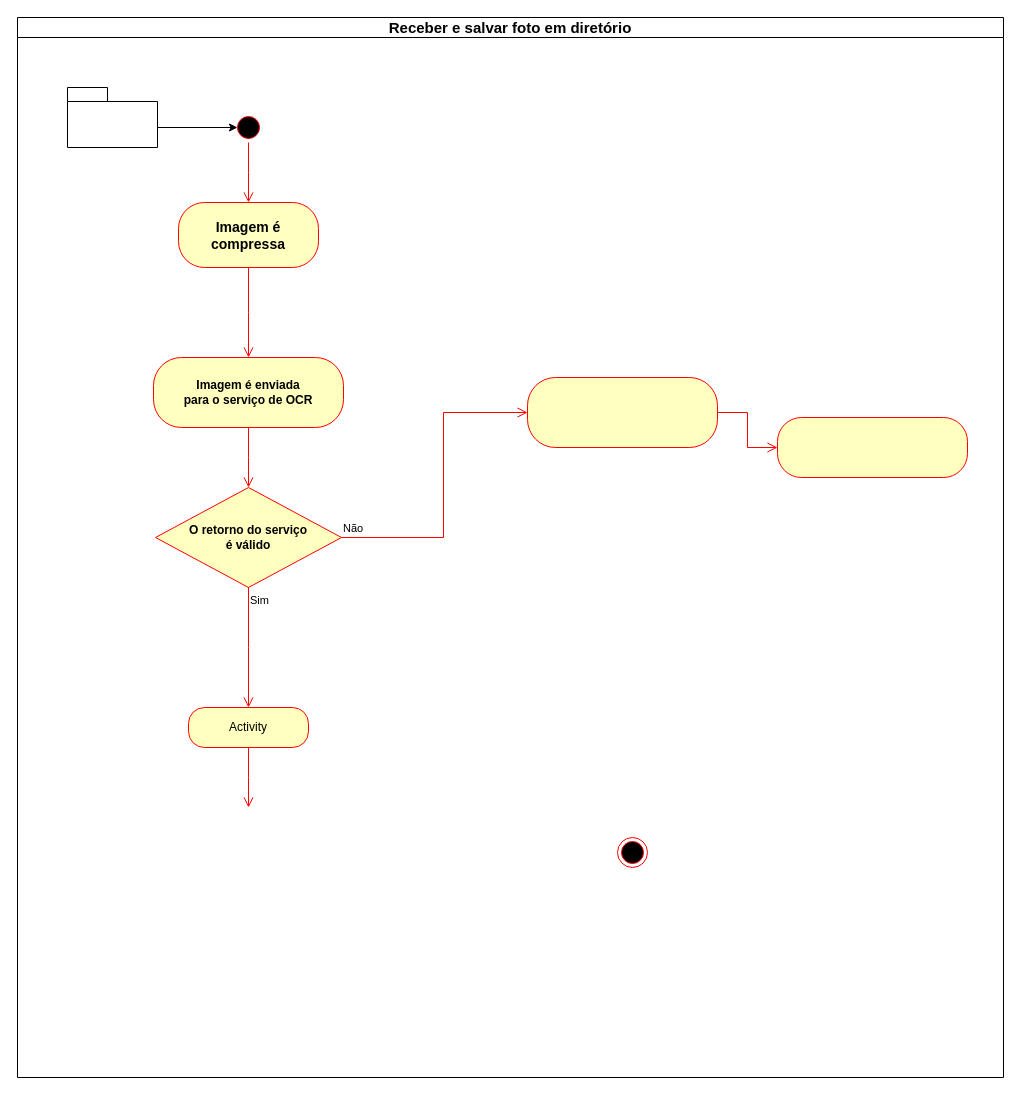
Image size: 1021x1095. Some labels were removed from this diagram. The centre of each missing label's shape, as x and y in pixels:
Cancela o salvamento da imagem: (622,412)
Exibe mensagem de erro: (872,447)
Foto enviada: (112,117)
